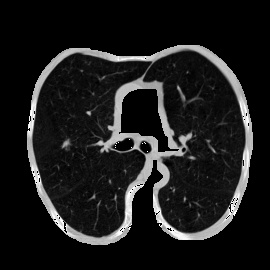PN: (62, 140, 70, 148)
